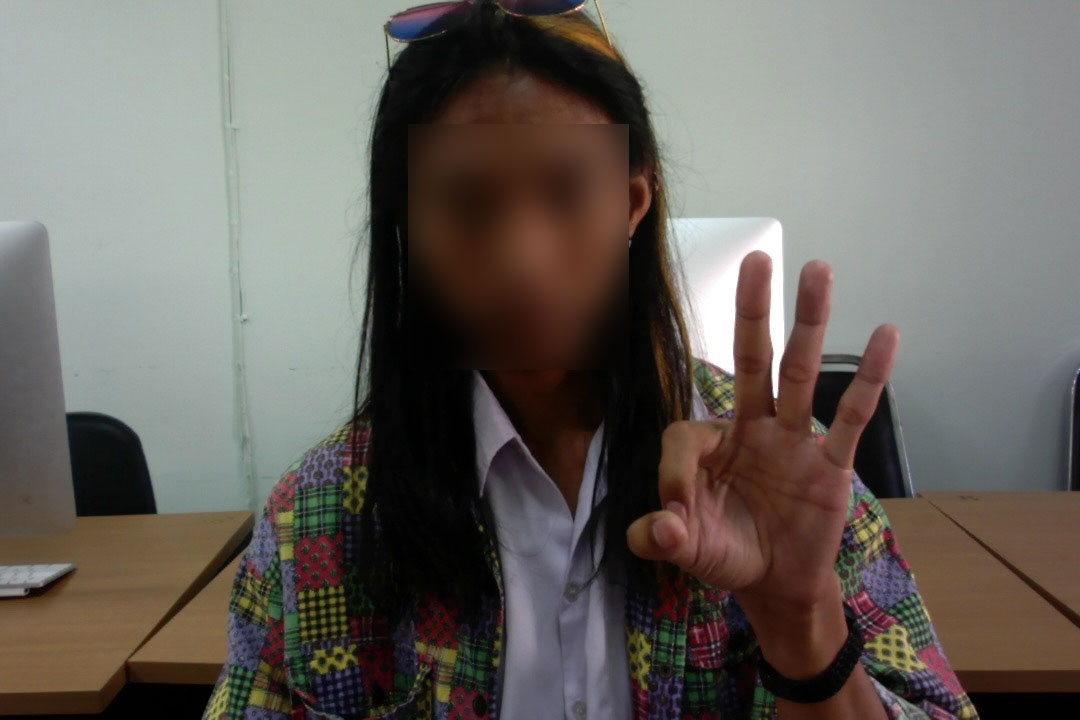for: (586, 192, 950, 689)
